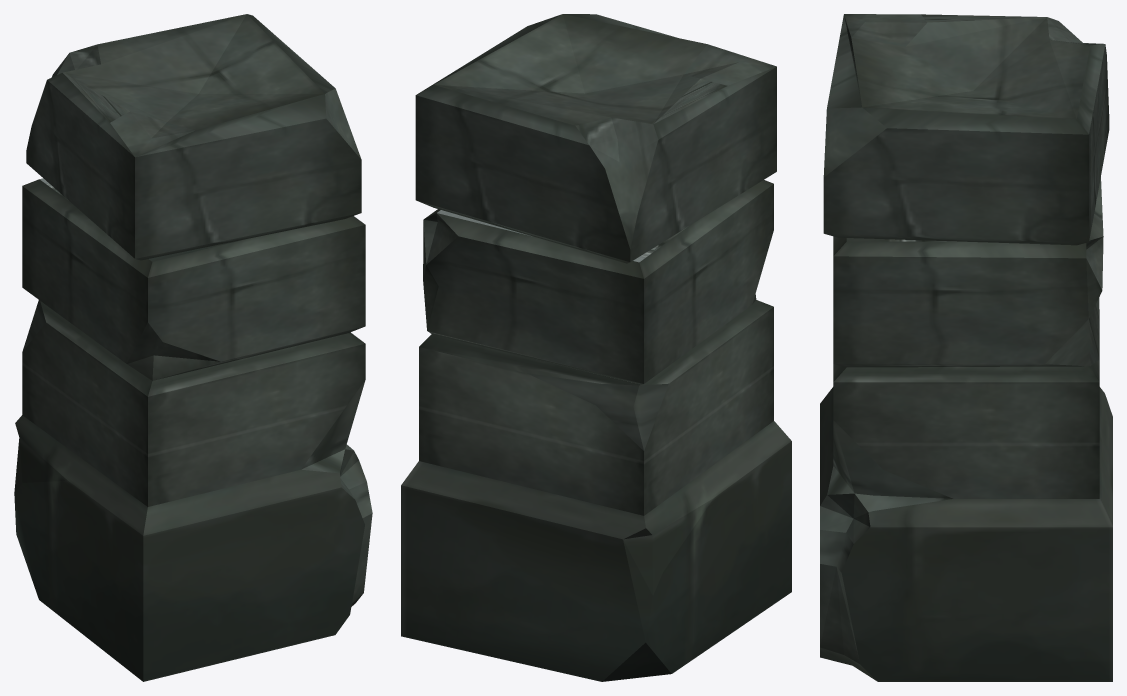
Rendered from pillar_type011.FBX.
3 renders of one model, left to right at view 1: azimuth 30°, elevation 25°; view 2: azimuth 150°, elevation 25°; view 3: azimuth 270°, elevation 25°, orthographic. The views are drawn at different scales.
Visible parts, largest first — view 1: pillar_type011; view 2: pillar_type011; view 3: pillar_type011.
Boxes of the visible parts, left/top/right/bottom form: pillar_type011: left=14, top=14, right=372, bottom=681; pillar_type011: left=401, top=14, right=791, bottom=681; pillar_type011: left=820, top=14, right=1112, bottom=681.
Bounding box in the file's own units: 220 × 460 × 220.
